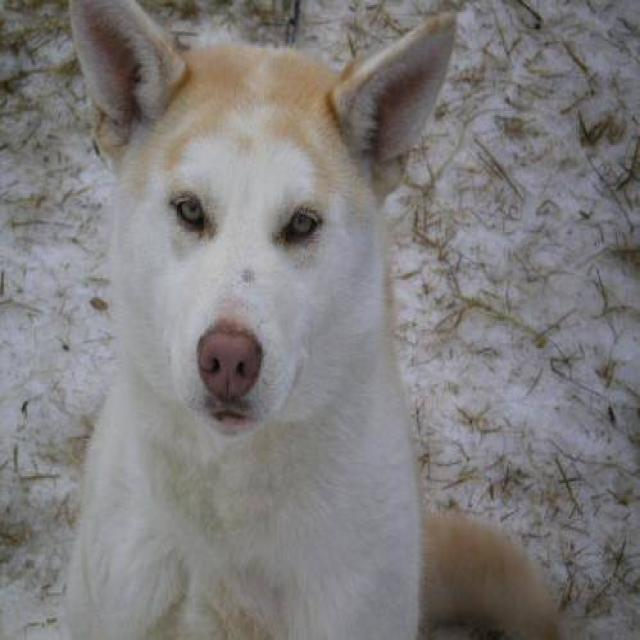Dog: (61, 3, 452, 444)
